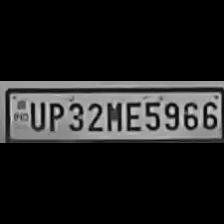2: (84, 99, 104, 131)
3: (65, 99, 84, 131)
5: (142, 98, 160, 132)
6: (180, 98, 198, 130), (200, 98, 218, 130)
9: (162, 98, 180, 132)
E: (123, 98, 141, 132)
M: (104, 100, 122, 132)
P: (45, 100, 63, 132)
U: (26, 99, 44, 131)
